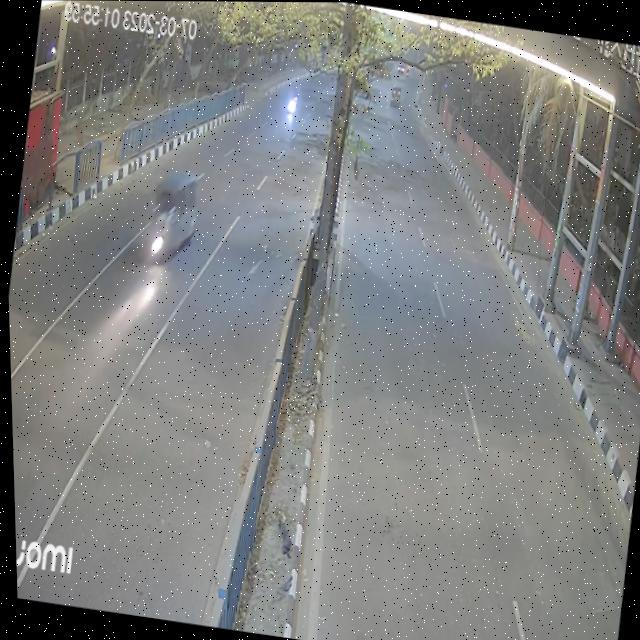cng: (137, 158, 205, 268)
